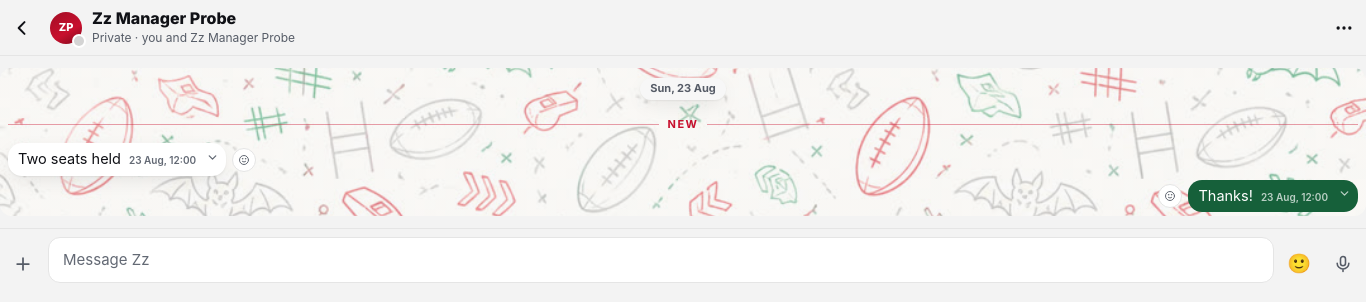
chat file composer › has a file control in the + menu, not multiple, beside the photo input
The width and height of the screenshot is (1366, 302).
Step 1. Click the button with test id "attach-menu" → (23, 264), box [4,245,42,283]
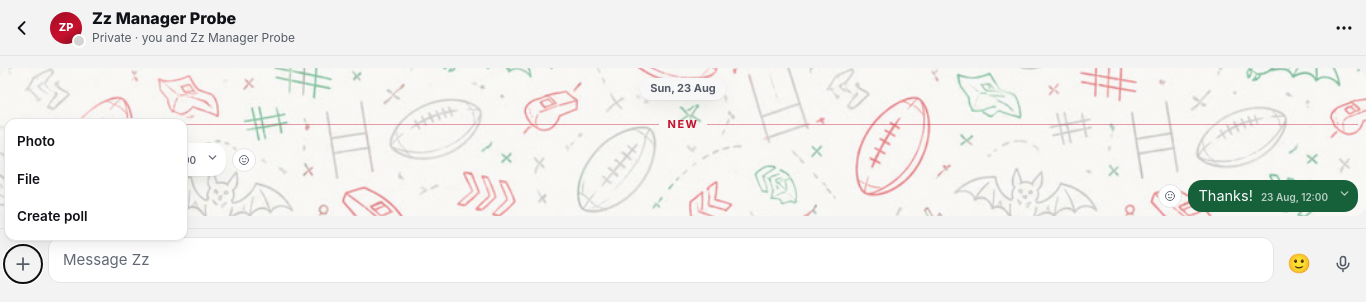
Expected: the menu item with aria-label "Attach a file" is shown, [5,161,187,198]
